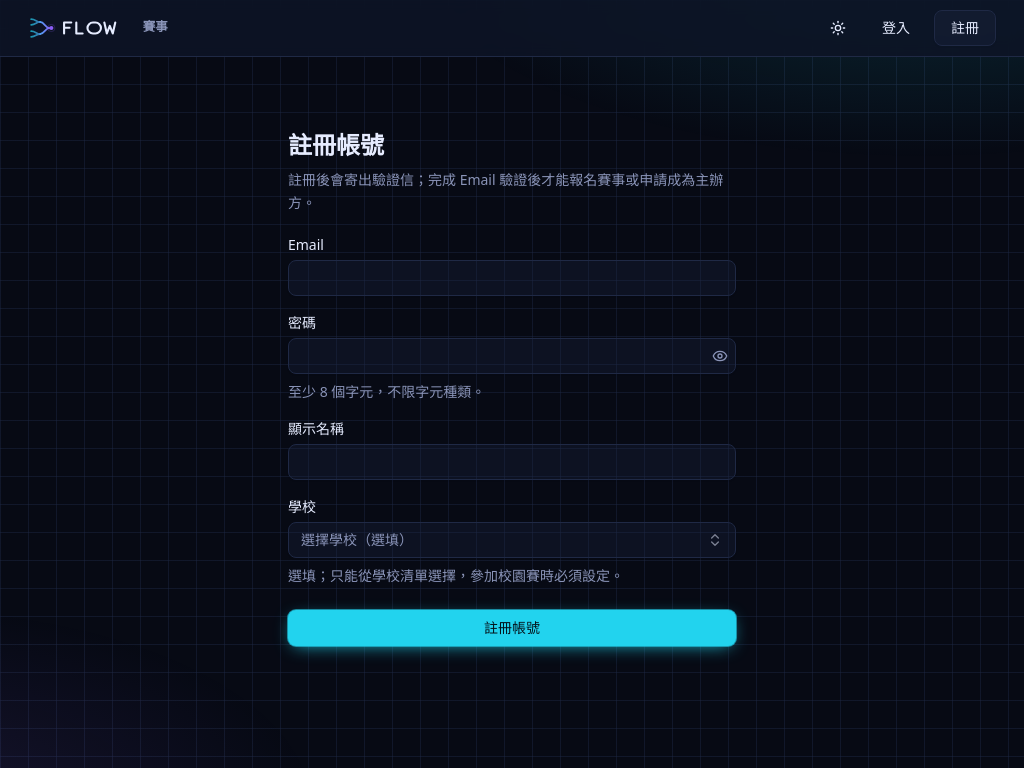
Test case: S5 註冊頁 › 註冊成功：送出正規化後的資料，導向 S7 並顯示剛註冊的 Email
In the field labelled "Email": point(512, 278) [288,260,736,296], type "  New@Example.com "
In the password field labelled "密碼": point(512, 356) [288,338,736,374], type "12345678"
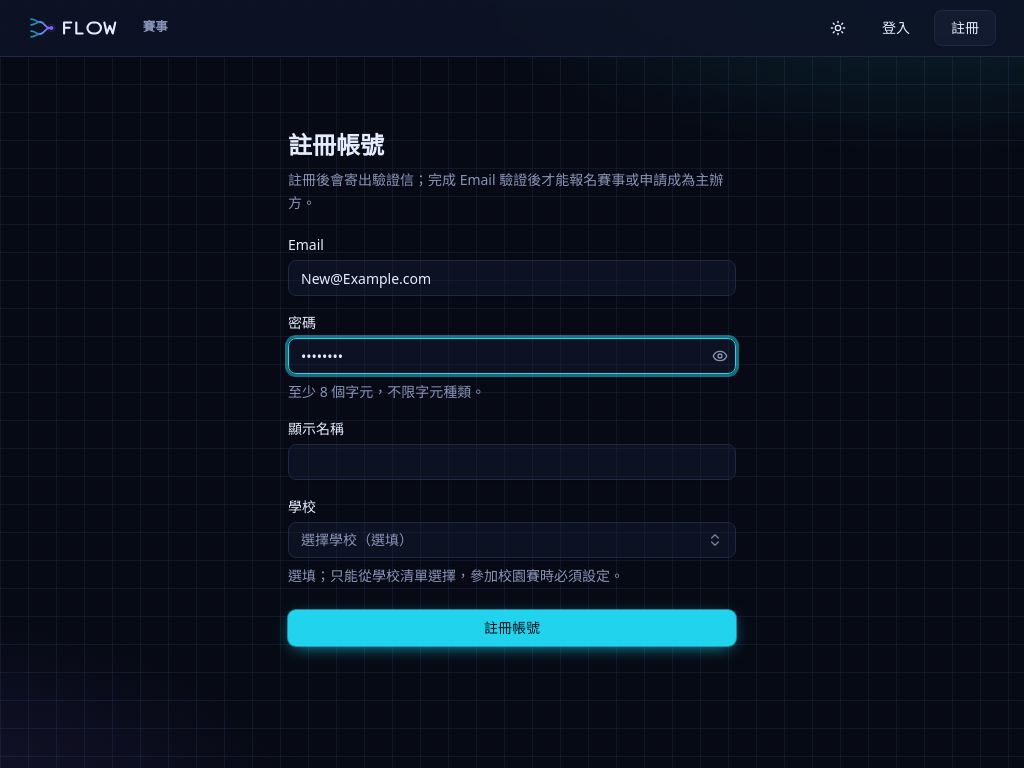
In the field labelled "顯示名稱": point(512, 462) [288,444,736,480], type " 小安 "
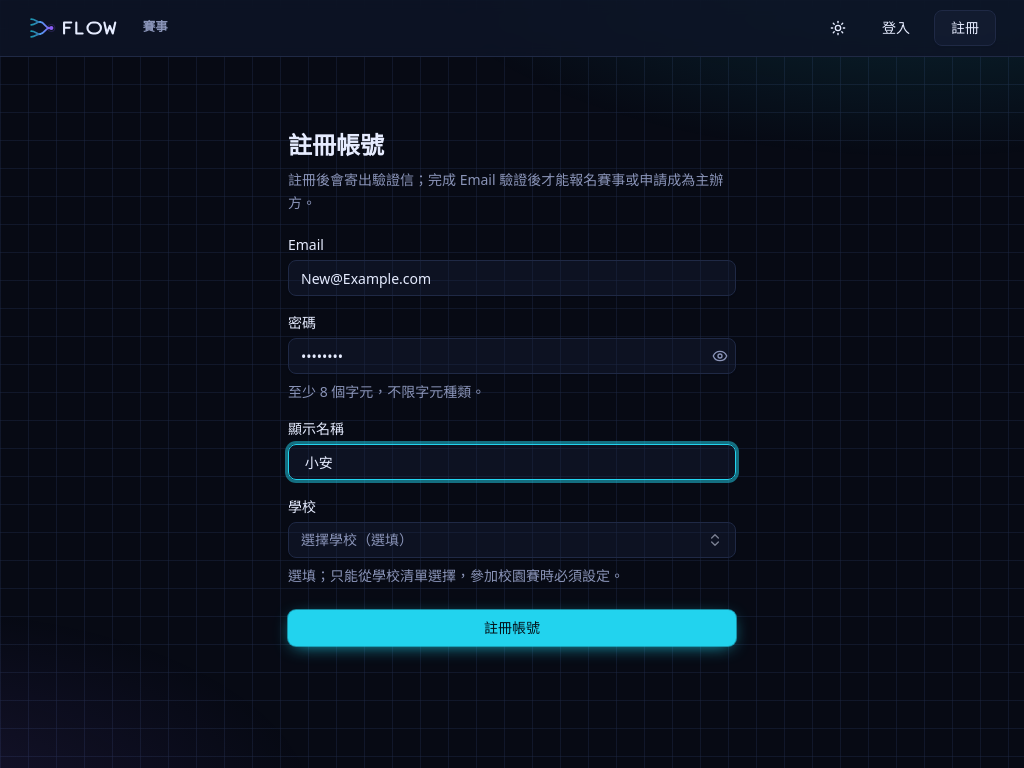
Click the dropdown labelled "學校": point(357, 540) [288,522,736,558]
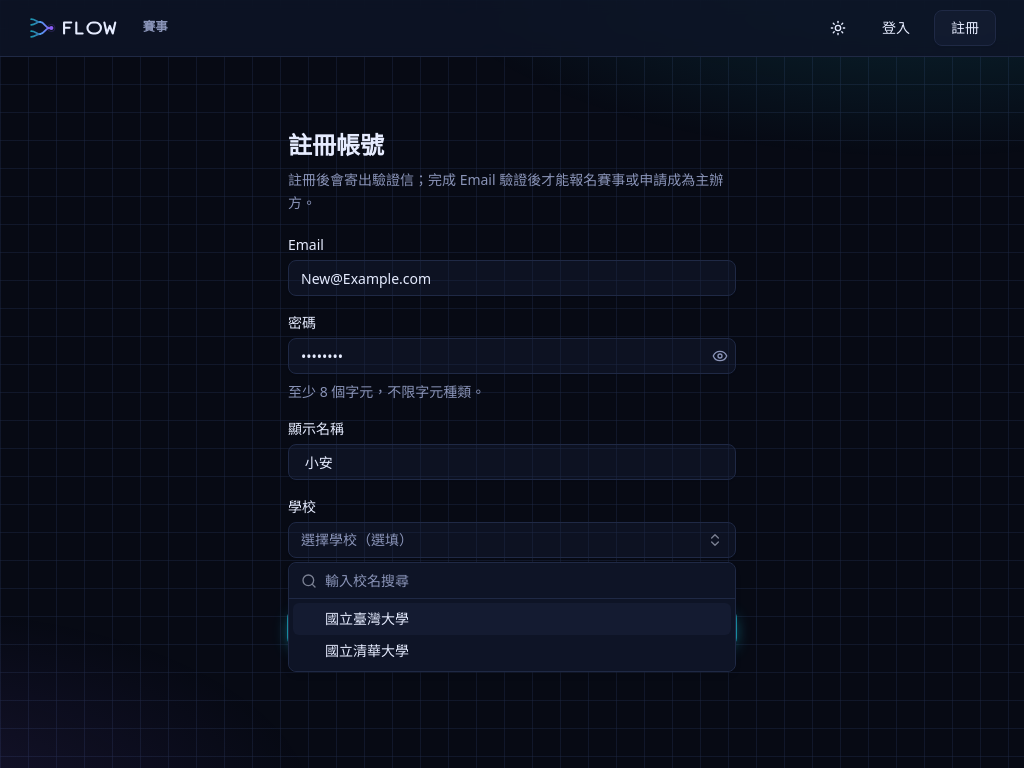
In the dropdown named "搜尋學校": point(524, 580) [325,560,723,600], type "清華"
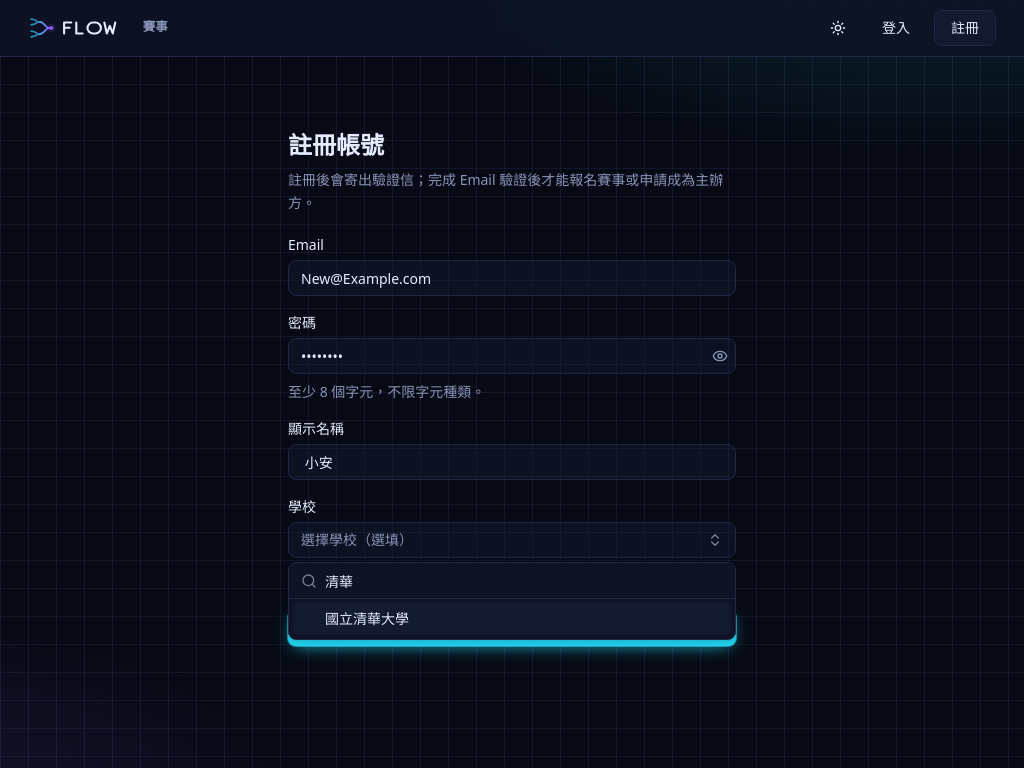
Click the option "國立清華大學": point(367, 618) [293,603,731,635]
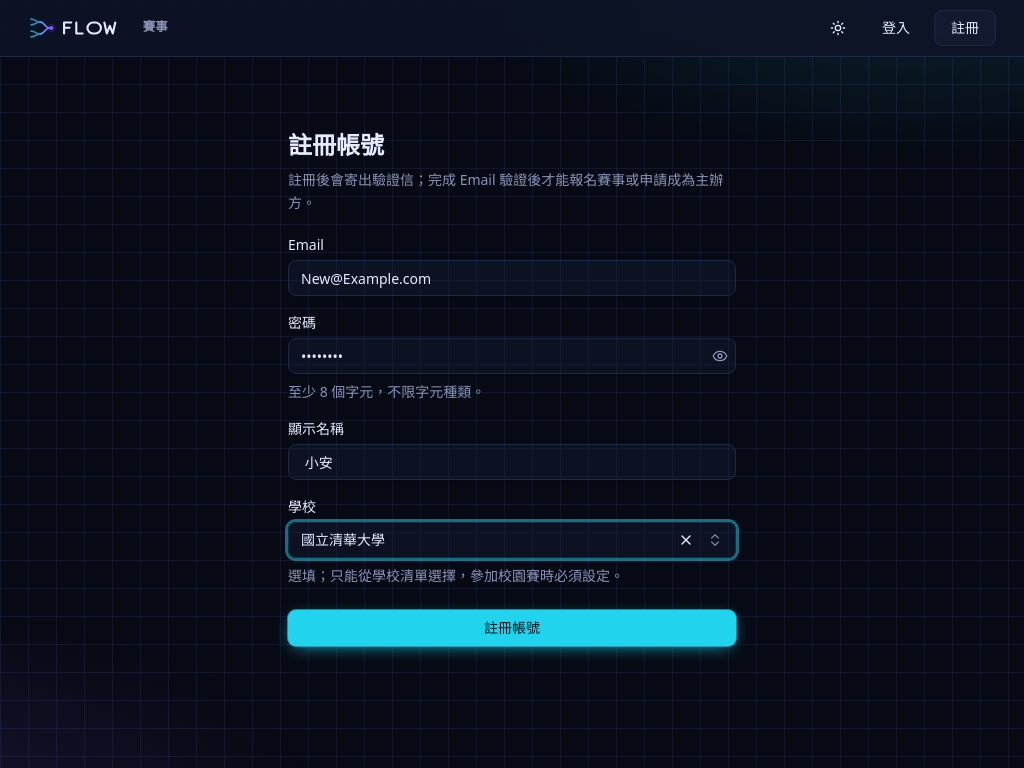
Click the button "註冊帳號": point(512, 628) [288,610,736,646]
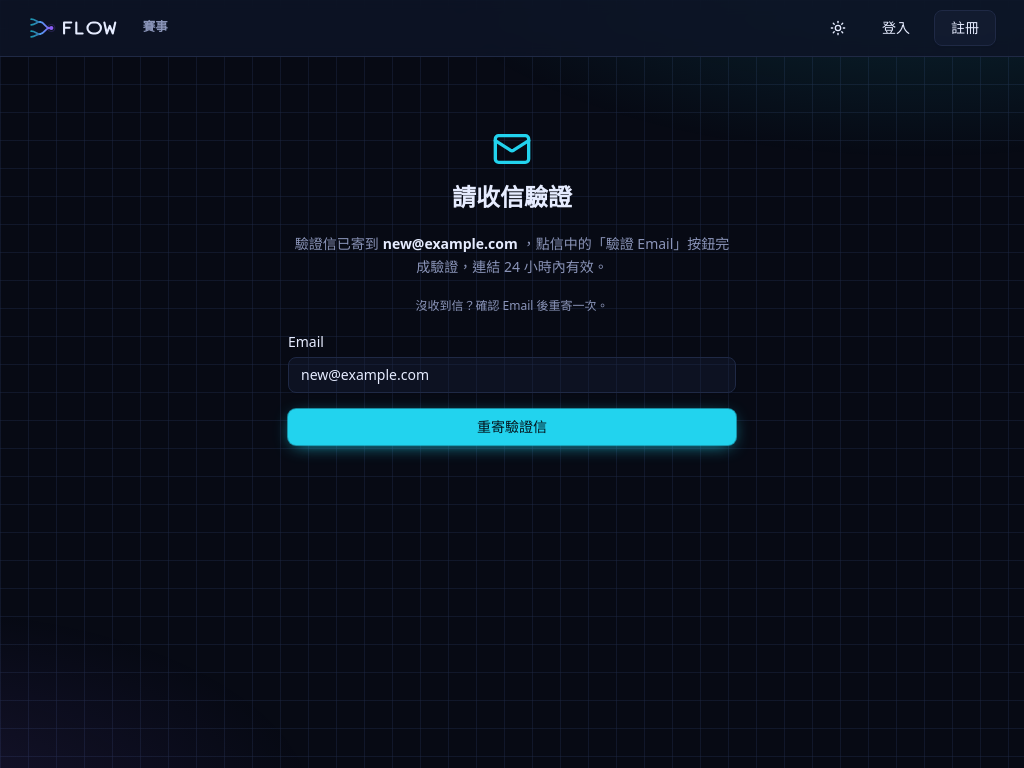
Now the heading "請收信驗證" is shown, box [452,181,572,213]
Now the text "new@example.com" is shown, box [383,234,518,253]
Now the field labelled "Email" holds "new@example.com", box [288,357,736,393]
